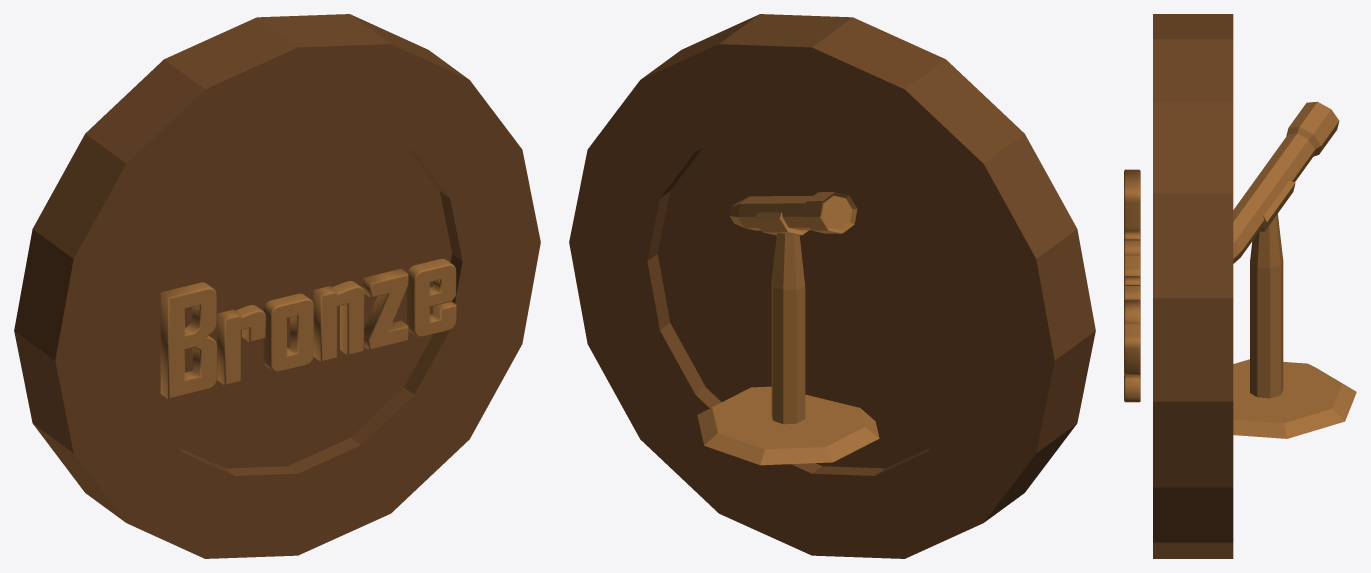
The model's file is Bronze_Vocal.glb.
3 renders of one model, left to right at view 1: azimuth 30°, elevation 25°; view 2: azimuth 150°, elevation 25°; view 3: azimuth 270°, elevation 25°, orthographic. The views are drawn at different scales.
Visible parts, largest first — view 1: Coin, Bronze Text; view 2: Coin, Microphone; view 3: Coin, Microphone, Bronze Text.
Part boxes in pixels (<box>): Coin: <box>14,14,540,558</box>; Bronze Text: <box>160,258,456,398</box>; Coin: <box>569,14,1095,558</box>; Microphone: <box>697,192,879,465</box>; Coin: <box>1153,14,1233,558</box>; Microphone: <box>1233,101,1356,438</box>; Bronze Text: <box>1124,169,1140,402</box>.
Bounding box in the file's own units: 0.987 × 0.987 × 0.4212.
